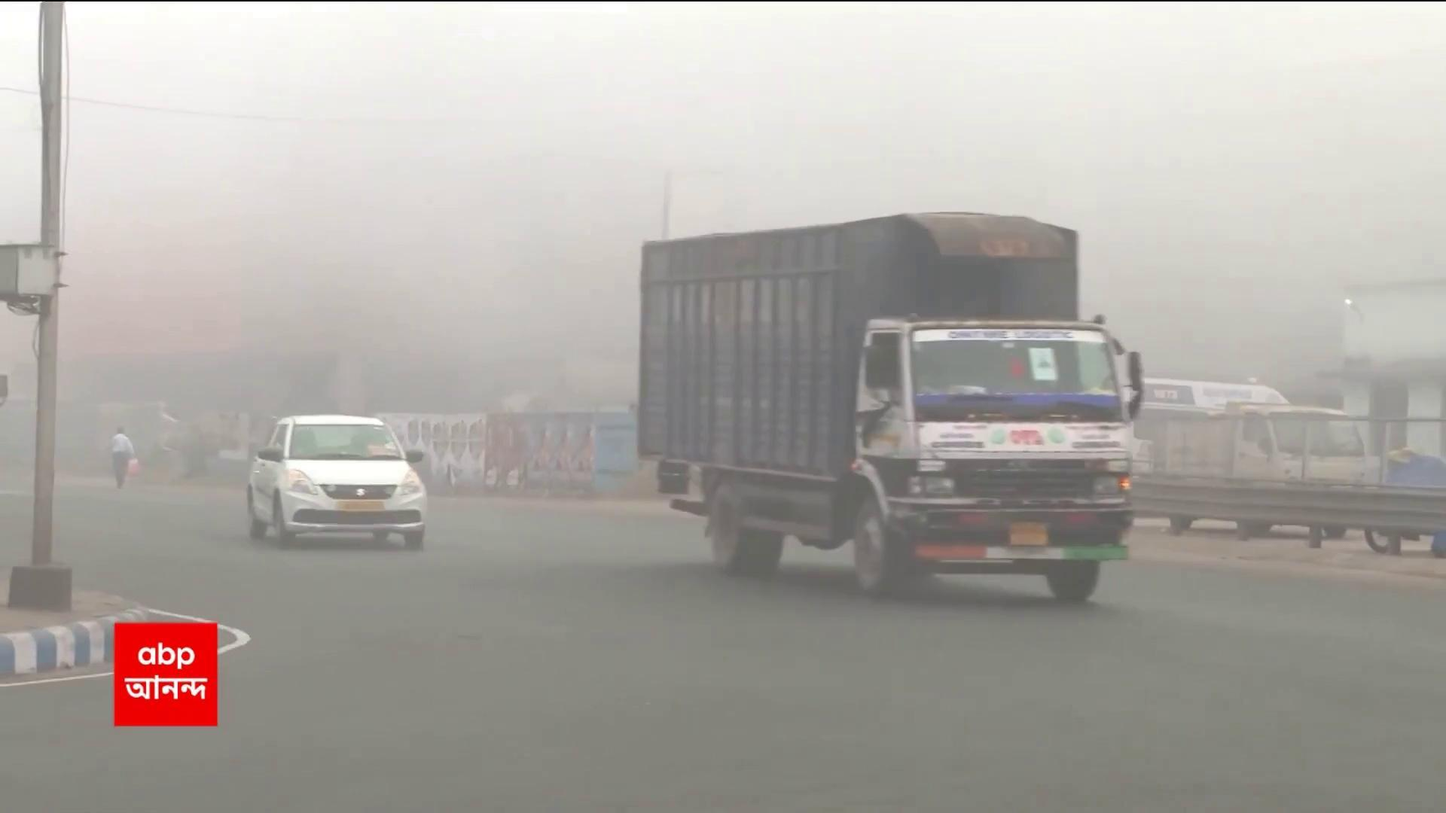Car: (243, 407, 433, 561)
Truck: (606, 211, 1147, 615)
